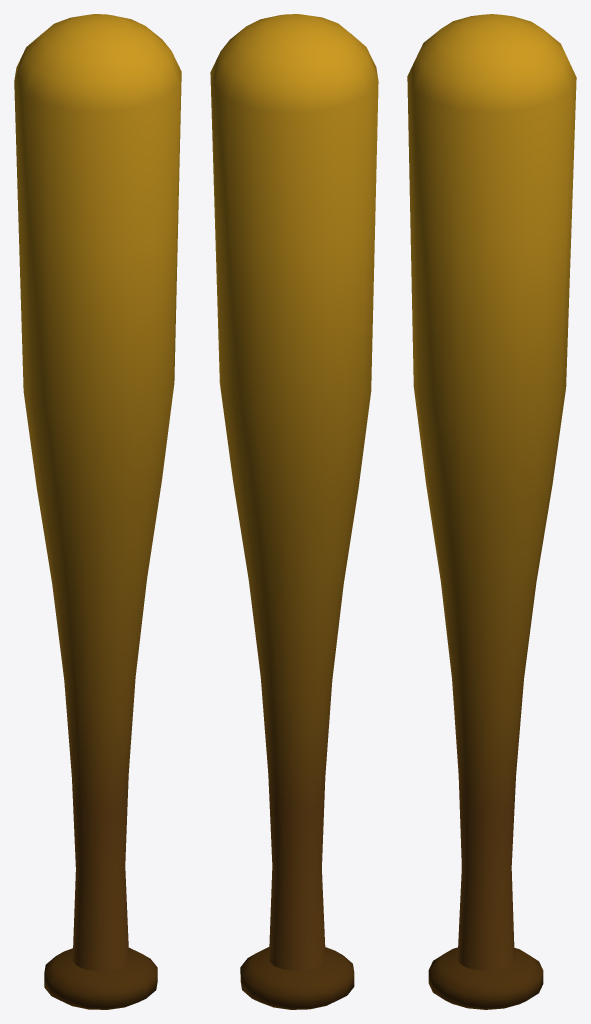
Rendered from BaseBallBat.fbx.
3 views of the same model, side by side, from view 1: azimuth 30°, elevation 25°; view 2: azimuth 150°, elevation 25°; view 3: azimuth 270°, elevation 25° (orthographic).
Parts seen in each view (by area): view 1: BaseBallBat; view 2: BaseBallBat; view 3: BaseBallBat.
Boxes of the visible parts, x1,y1,x2,y2 form: BaseBallBat: (14, 14, 181, 1009); BaseBallBat: (210, 14, 378, 1009); BaseBallBat: (407, 14, 576, 1009).
Bounding box in the file's own units: 20.99 × 20.98 × 133.
Materials: 1 (1 with a texture image).
